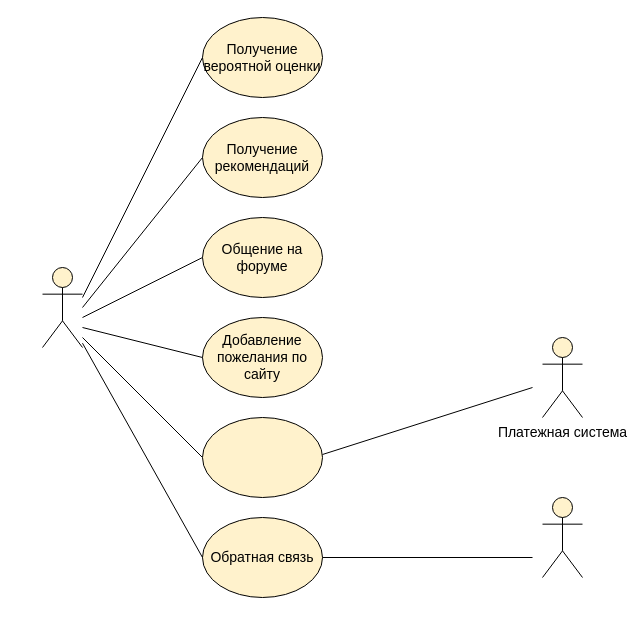
Image size: 644x619. Some labels were removed from this diagram. The box of each missing label's shape, as (x1, y1, x2, y2) in pixels:
Администратор: (542, 496, 582, 578)
Поддержка сервиса: (202, 416, 322, 498)
Пользователь (Клиент): (42, 266, 82, 348)
